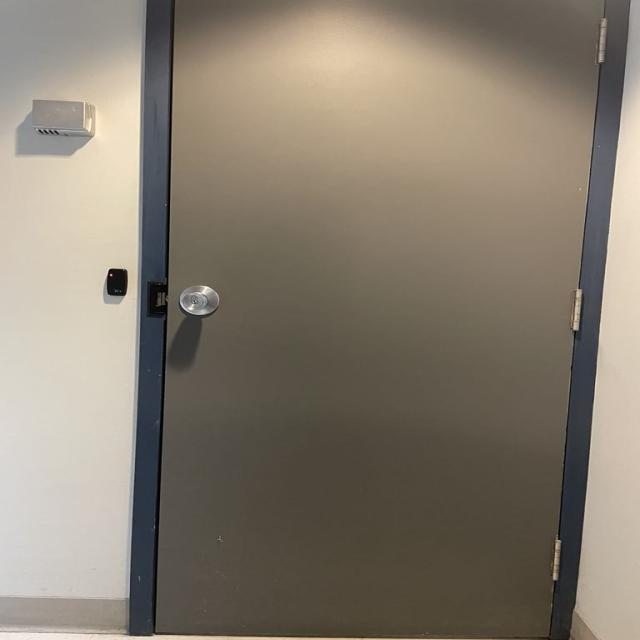door-knob: (180, 286, 218, 316)
